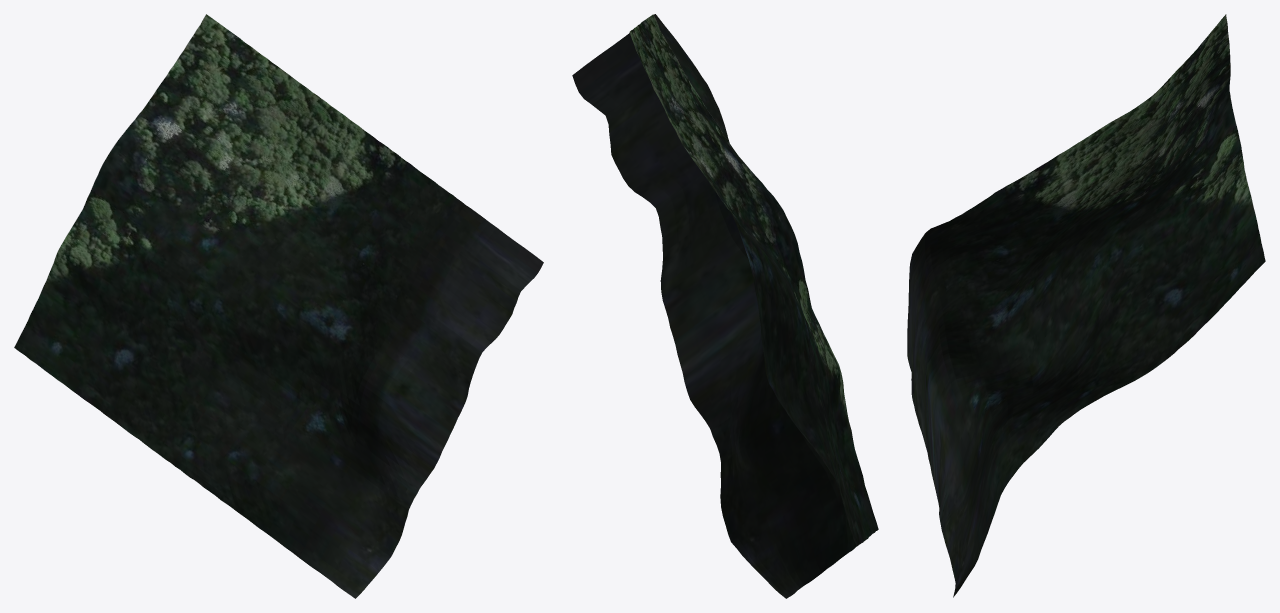
3 renders of one model, left to right at view 1: azimuth 30°, elevation 25°; view 2: azimuth 150°, elevation 25°; view 3: azimuth 270°, elevation 25°, orthographic. The views are drawn at different scales.
Size of the model in its own units: 316 by 409 by 233.
Materials: 1 (1 with a texture image).
